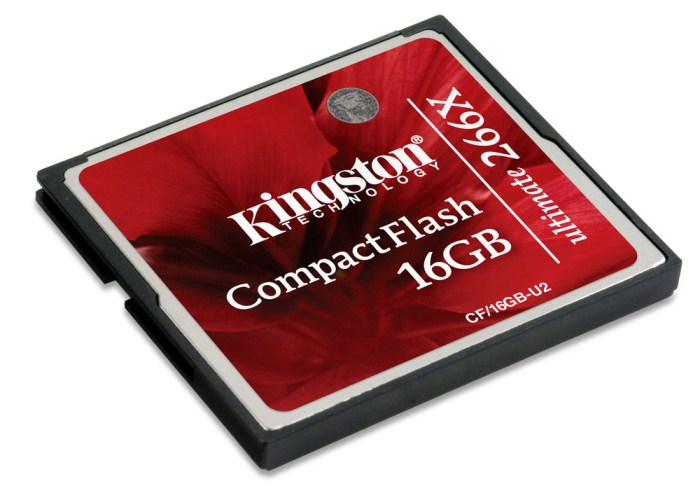Kingston: (224, 133, 445, 249), (320, 85, 395, 131)
